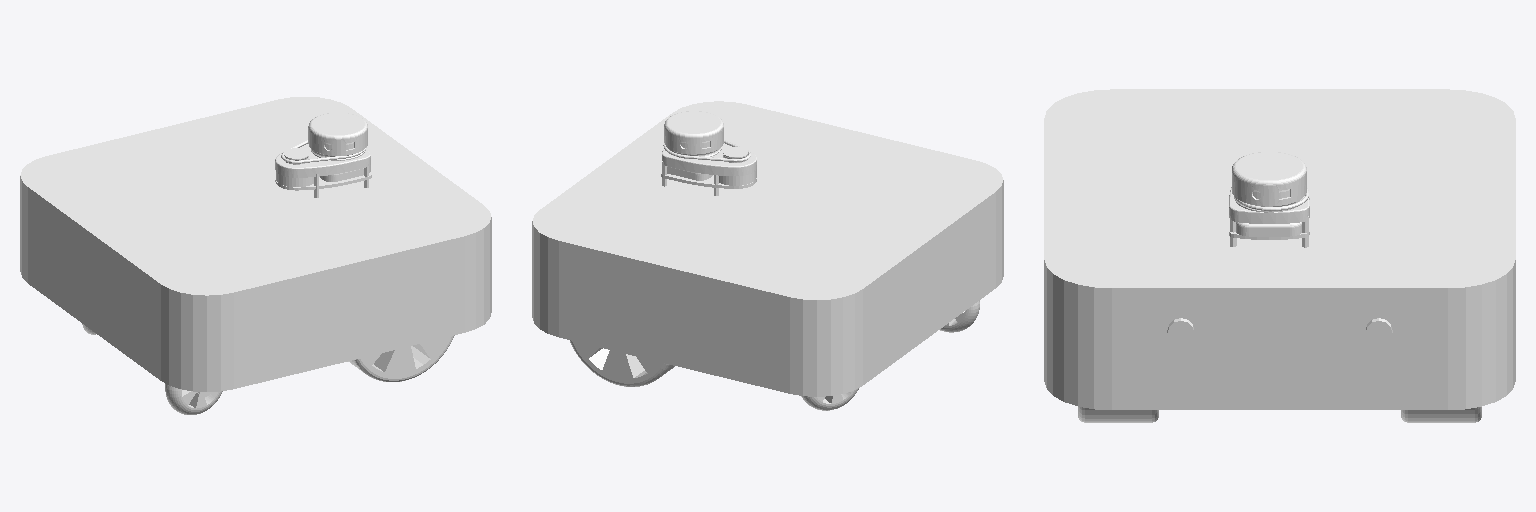
URDF robot description (mbot_description):
<?xml version="1.0" encoding="utf-8"?>
<!-- This URDF was automatically created by SolidWorks to URDF Exporter! Originally created by [author] ([email redacted]) 
     Commit Version: 1.5.1-0-g916b5db  Build Version: 1.5.7152.31018
     For more information, please see http://wiki.ros.org/sw_urdf_exporter -->
<robot name="mbot_description">
  <link name="base_link">
    <inertial>
      <origin xyz="0.015933 1.3878E-17 -0.041873" rpy="0 0 0" />
      <mass value="7.2669" />
      <inertia ixx="0.073278" ixy="-1.3838E-17" ixz="0.0024897" iyy="0.080451" iyz="3.2716E-18" izz="0.14063" />
    </inertial>
    <visual>
      <origin xyz="0 0 0" rpy="0 0 0" />
      <geometry>
        <mesh filename="package://mbot_description/meshes/base_link.STL" />
      </geometry>
      <material name="">
        <color rgba="1 1 1 1" />
      </material>
    </visual>
    <collision>
      <origin xyz="0 0 0" rpy="0 0 0" />
      <geometry>
        <mesh filename="package://mbot_description/meshes/base_link.STL" />
      </geometry>
    </collision>
  </link>
  <link name="driving_wheel_left_Link">
    <inertial>
      <origin xyz="-2.7756E-17 2.7756E-17 -5.5511E-17" rpy="0 0 0" />
      <mass value="0.52382" />
      <inertia ixx="0.00066273" ixy="-1.1758E-19" ixz="4.3427E-19" iyy="0.0010154" iyz="1.2061E-18" izz="0.00066273" />
    </inertial>
    <visual>
      <origin xyz="0 0 0" rpy="0 0 0" />
      <geometry>
        <mesh filename="package://mbot_description/meshes/driving_wheel_left_Link.STL" />
      </geometry>
      <material name="">
        <color rgba="1 1 1 1" />
      </material>
    </visual>
    <collision>
      <origin xyz="0 0 0" rpy="0 0 0" />
      <geometry>
        <mesh filename="package://mbot_description/meshes/driving_wheel_left_Link.STL" />
      </geometry>
    </collision>
  </link>
  <joint name="driving_wheel_left_Joint" type="continuous">
    <origin xyz="0.0759349554718283 0.120000000000001 -0.0899999999999999" rpy="0 0 0" />
    <parent link="base_link" />
    <child link="driving_wheel_left_Link" />
    <axis xyz="0 1 0" />
  </joint>
  <link name="driving_wheel_right_Link">
    <inertial>
      <origin xyz="-1.3878E-17 -6.9389E-18 -5.5511E-17" rpy="0 0 0" />
      <mass value="0.52382" />
      <inertia ixx="0.00066273" ixy="-7.1413E-20" ixz="3.9242E-19" iyy="0.0010154" iyz="6.6159E-20" izz="0.00066273" />
    </inertial>
    <visual>
      <origin xyz="0 0 0" rpy="0 0 0" />
      <geometry>
        <mesh filename="package://mbot_description/meshes/driving_wheel_right_Link.STL" />
      </geometry>
      <material name="">
        <color rgba="1 1 1 1" />
      </material>
    </visual>
    <collision>
      <origin xyz="0 0 0" rpy="0 0 0" />
      <geometry>
        <mesh filename="package://mbot_description/meshes/driving_wheel_right_Link.STL" />
      </geometry>
    </collision>
  </link>
  <joint name="driving_wheel_right_Joint" type="continuous">
    <origin xyz="0.0759349554718304 -0.12 -0.0899999999999999" rpy="0 0 0" />
    <parent link="base_link" />
    <child link="driving_wheel_right_Link" />
    <axis xyz="0 1 0" />
  </joint>
  <link name="slaving_wheel_support_left_Link">
    <inertial>
      <origin xyz="-0.00501698807864759 -0.00740349670995302 -0.023532617322705" rpy="0 0 0" />
      <mass value="0.00954061970353668" />
      <inertia ixx="4.78189780301144E-06" ixy="4.18905250859912E-07" ixz="-8.46438620474034E-07" iyy="5.11619859392016E-06" iyz="-1.24907722394787E-06" izz="2.54856299267201E-06" />
    </inertial>
    <visual>
      <origin xyz="0 0 0" rpy="0 0 0" />
      <geometry>
        <mesh filename="package://mbot_description/meshes/slaving_wheel_support_left_Link.STL" />
      </geometry>
      <material name="">
        <color rgba="1 1 1 1" />
      </material>
    </visual>
    <collision>
      <origin xyz="0 0 0" rpy="0 0 0" />
      <geometry>
        <mesh filename="package://mbot_description/meshes/slaving_wheel_support_left_Link.STL" />
      </geometry>
    </collision>
  </link>
  <joint name="slaving_wheel_support_left_Joint" type="continuous">
    <origin xyz="-0.11 0.11 -0.06962" rpy="0 0 0" />
    <parent link="base_link" />
    <child link="slaving_wheel_support_left_Link" />
    <axis xyz="0 0 1" />
  </joint>
  <link name="slaving_wheel_left_Link">
    <inertial>
      <origin xyz="1.3878E-17 2.7756E-17 0" rpy="0 0 0" />
      <mass value="0.044657" />
      <inertia ixx="2.057E-05" ixy="-4.9805E-06" ixz="4.1965E-21" iyy="1.6595E-05" iyz="-9.9532E-21" izz="1.322E-05" />
    </inertial>
    <visual>
      <origin xyz="0 0 0" rpy="0 0 0" />
      <geometry>
        <mesh filename="package://mbot_description/meshes/slaving_wheel_left_Link.STL" />
      </geometry>
      <material name="">
        <color rgba="1 1 1 1" />
      </material>
    </visual>
    <collision>
      <origin xyz="0 0 0" rpy="0 0 0" />
      <geometry>
        <mesh filename="package://mbot_description/meshes/slaving_wheel_left_Link.STL" />
      </geometry>
    </collision>
  </link>
  <joint name="slaving_wheel_left_Joint" type="continuous">
    <origin xyz="-0.0112195933660778 -0.0165565915785787 -0.0475777087639996" rpy="0 0 0" />
    <parent link="slaving_wheel_support_left_Link" />
    <child link="slaving_wheel_left_Link" />
    <axis xyz="-0.82782957892894 0.560979668303882 0" />
  </joint>
  <link name="slaving_wheel_support_right_Link">
    <inertial>
      <origin xyz="-0.00891078923924538 -0.000761425012280416 -0.0235326173227048" rpy="0 0 0" />
      <mass value="0.00954061970353668" />
      <inertia ixx="5.39353153936192E-06" ixy="7.65207394395506E-08" ixz="-1.50337932495843E-06" iyy="4.50456485756967E-06" iyz="-1.28463438000195E-07" izz="2.54856299267201E-06" />
    </inertial>
    <visual>
      <origin xyz="0 0 0" rpy="0 0 0" />
      <geometry>
        <mesh filename="package://mbot_description/meshes/slaving_wheel_support_right_Link.STL" />
      </geometry>
      <material name="">
        <color rgba="1 1 1 1" />
      </material>
    </visual>
    <collision>
      <origin xyz="0 0 0" rpy="0 0 0" />
      <geometry>
        <mesh filename="package://mbot_description/meshes/slaving_wheel_support_right_Link.STL" />
      </geometry>
    </collision>
  </link>
  <joint name="slaving_wheel_support_right_Joint" type="continuous">
    <origin xyz="-0.11 -0.11 -0.06962" rpy="0 0 0" />
    <parent link="base_link" />
    <child link="slaving_wheel_support_right_Link" />
    <axis xyz="0 0 1" />
  </joint>
  <link name="slaving_wheel_right_Link">
    <inertial>
      <origin xyz="0 0 0" rpy="0 0 0" />
      <mass value="0.0446566317929066" />
      <inertia ixx="1.32976622205937E-05" ixy="-9.09773992865528E-07" ixz="8.00200307417021E-21" iyy="2.38668069196913E-05" iyz="7.98604915122304E-22" izz="1.32199222297701E-05" />
    </inertial>
    <visual>
      <origin xyz="0 0 0" rpy="0 0 0" />
      <geometry>
        <mesh filename="package://mbot_description/meshes/slaving_wheel_right_Link.STL" />
      </geometry>
      <material name="">
        <color rgba="1 1 1 1" />
      </material>
    </visual>
    <collision>
      <origin xyz="0 0 0" rpy="0 0 0" />
      <geometry>
        <mesh filename="package://mbot_description/meshes/slaving_wheel_right_Link.STL" />
      </geometry>
    </collision>
  </link>
  <joint name="slaving_wheel_right_Joint" type="continuous">
    <origin xyz="-0.0199273807846288 -0.00170279037594397 -0.0475777087639996" rpy="0 0 0" />
    <parent link="slaving_wheel_support_right_Link" />
    <child link="slaving_wheel_right_Link" />
    <axis xyz="-0.0851395187972008 0.996369039231439 0" />
  </joint>
  <link name="laser_radar_Link">
    <inertial>
      <origin xyz="-0.010461 9.6285E-06 -0.015895" rpy="0 0 0" />
      <mass value="0.133" />
      <inertia ixx="2.9153E-05" ixy="-3.209E-08" ixz="-1.0931E-08" iyy="3.8521E-05" iyz="-3.7934E-11" izz="6.0727E-05" />
    </inertial>
    <visual>
      <origin xyz="0 0 0" rpy="0 0 0" />
      <geometry>
        <mesh filename="package://mbot_description/meshes/laser_radar_Link.STL" />
      </geometry>
      <material name="">
        <color rgba="1 1 1 1" />
      </material>
    </visual>
    <collision>
      <origin xyz="0 0 0" rpy="0 0 0" />
      <geometry>
        <mesh filename="package://mbot_description/meshes/laser_radar_Link.STL" />
      </geometry>
    </collision>
  </link>
  <joint name="laser_radar_Joint" type="fixed">
    <origin xyz="0.0844434086139717 -0.00791322541970714 0.0464887904065278" rpy="0 0 0" />
    <parent link="base_link" />
    <child link="laser_radar_Link" />
    <axis xyz="0 0 0" />
  </joint>
</robot>

--- What the picture shows (computed from the rendered views, not written in the file) ---
The picture shows the robot from 3 angles, left to right: view 1: azimuth 30°, elevation 25°; view 2: azimuth 150°, elevation 25°; view 3: azimuth 270°, elevation 25°; orthographic projection.
Robot: mbot_description — 8 links, 7 joints (6 continuous, 1 fixed); root link base_link; default pose: all joints at 0.
Links seen in each view (by area): view 1: base_link, laser_radar_Link, driving_wheel_right_Link, slaving_wheel_right_Link; view 2: base_link, laser_radar_Link, driving_wheel_left_Link, slaving_wheel_left_Link, slaving_wheel_right_Link; view 3: base_link, laser_radar_Link, driving_wheel_left_Link, driving_wheel_right_Link.
Boxes of the visible links, x1,y1,x2,y2 form: base_link: [20, 97, 491, 391]; laser_radar_Link: [275, 113, 371, 197]; driving_wheel_right_Link: [348, 335, 454, 381]; slaving_wheel_right_Link: [165, 384, 222, 414]; base_link: [532, 101, 1003, 396]; laser_radar_Link: [661, 111, 756, 195]; driving_wheel_left_Link: [570, 340, 674, 386]; slaving_wheel_left_Link: [801, 388, 858, 410]; slaving_wheel_right_Link: [940, 300, 979, 332]; base_link: [1044, 89, 1515, 409]; laser_radar_Link: [1229, 152, 1309, 247]; driving_wheel_left_Link: [1401, 407, 1481, 422]; driving_wheel_right_Link: [1078, 407, 1158, 422].
Size in the robot's own frame: 0.355 by 0.35 by 0.2079 metres.
Meshes: 8 distinct files referenced, 8 mesh visuals loaded (8 binary STL).